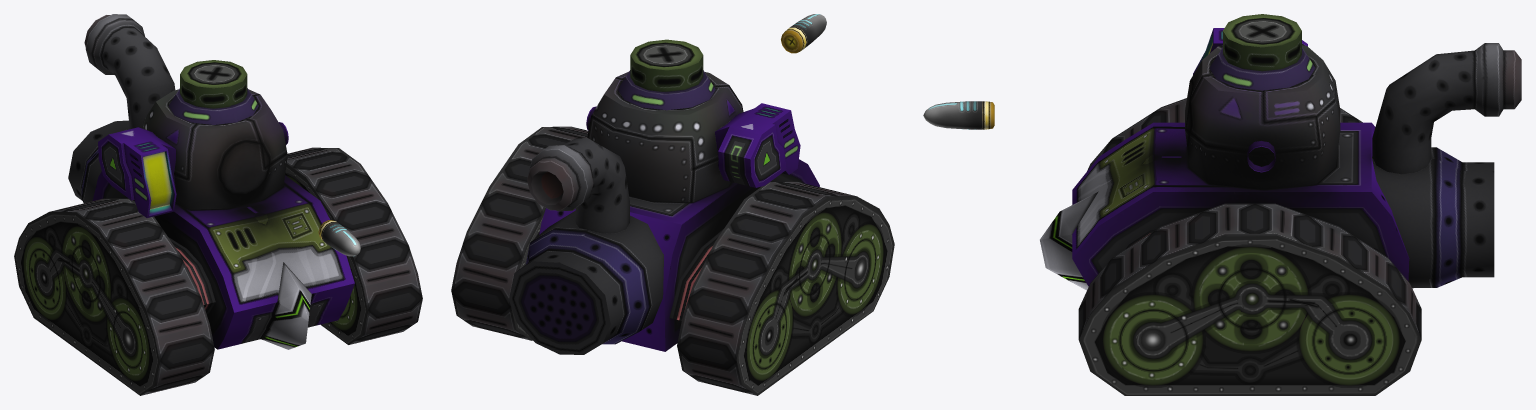
Rendered from tank.fbx.
3 views of the same model, side by side, from view 1: azimuth 30°, elevation 25°; view 2: azimuth 150°, elevation 25°; view 3: azimuth 270°, elevation 25° (orthographic). The views are drawn at different scales.
Parts seen in each view (by area): view 1: SciFi_Ultra_Tank_1_3, SciFi_Ultra_Tank_1_3_turret, SciFi_Ultra_Tank_1_3_bullet; view 2: SciFi_Ultra_Tank_1_3, SciFi_Ultra_Tank_1_3_turret, SciFi_Ultra_Tank_1_3_bullet; view 3: SciFi_Ultra_Tank_1_3, SciFi_Ultra_Tank_1_3_turret, SciFi_Ultra_Tank_1_3_bullet.
Part boxes in pixels (x1,y1,x2,y2): SciFi_Ultra_Tank_1_3: [14, 14, 422, 395]; SciFi_Ultra_Tank_1_3_turret: [98, 60, 288, 217]; SciFi_Ultra_Tank_1_3_bullet: [318, 220, 360, 256]; SciFi_Ultra_Tank_1_3: [451, 126, 894, 395]; SciFi_Ultra_Tank_1_3_turret: [586, 39, 800, 202]; SciFi_Ultra_Tank_1_3_bullet: [781, 14, 826, 53]; SciFi_Ultra_Tank_1_3: [1040, 43, 1521, 395]; SciFi_Ultra_Tank_1_3_turret: [1185, 14, 1340, 189]; SciFi_Ultra_Tank_1_3_bullet: [923, 101, 994, 129].
Bounding box in the file's own units: 305 × 274 × 512.
